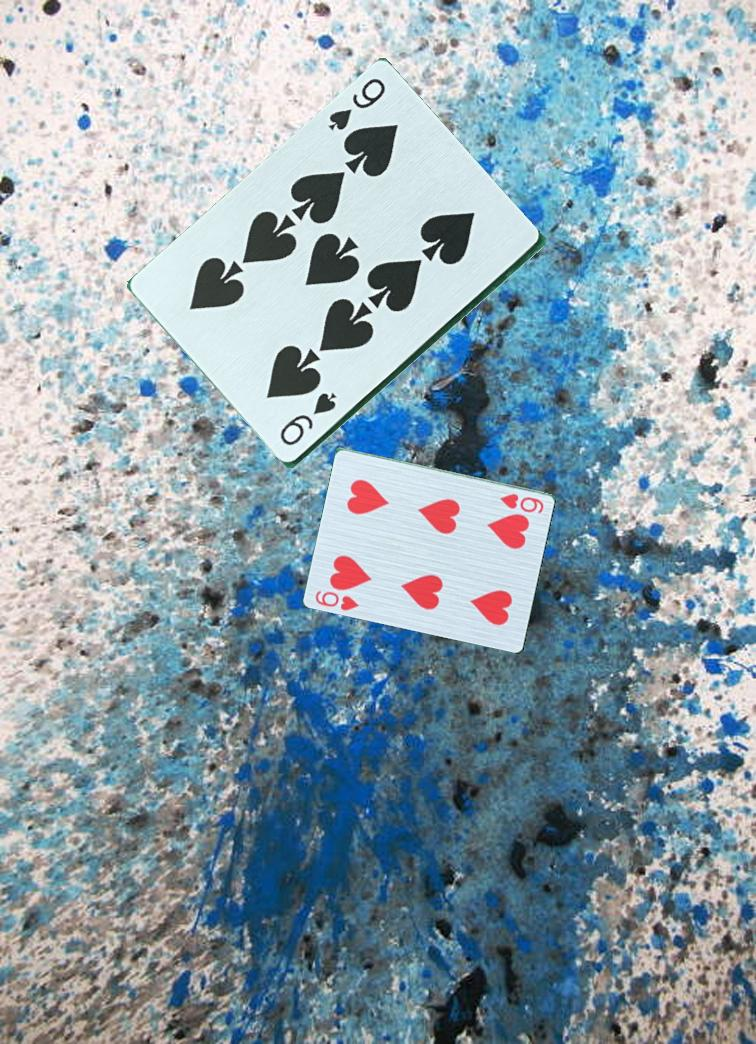6h: (497, 490, 547, 516), (312, 587, 362, 613)
9s: (276, 389, 340, 450), (325, 75, 389, 134)
